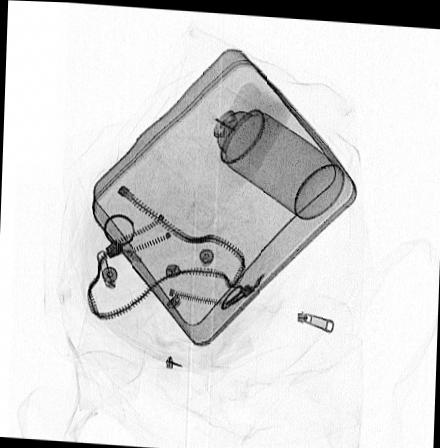Sprayer: (187, 80, 345, 219)
